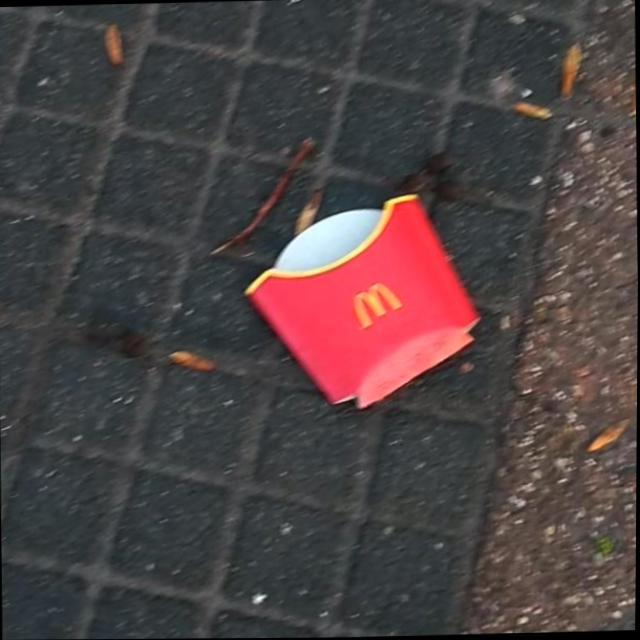Paper: (239, 188, 485, 413)
